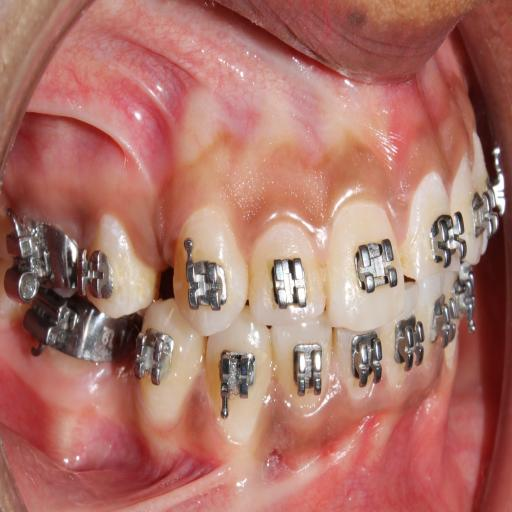correct_brace: (82, 217, 155, 314), (184, 228, 236, 313), (350, 228, 398, 303), (267, 250, 311, 316)
incorrect_brace: (248, 224, 324, 323), (85, 242, 121, 304)
